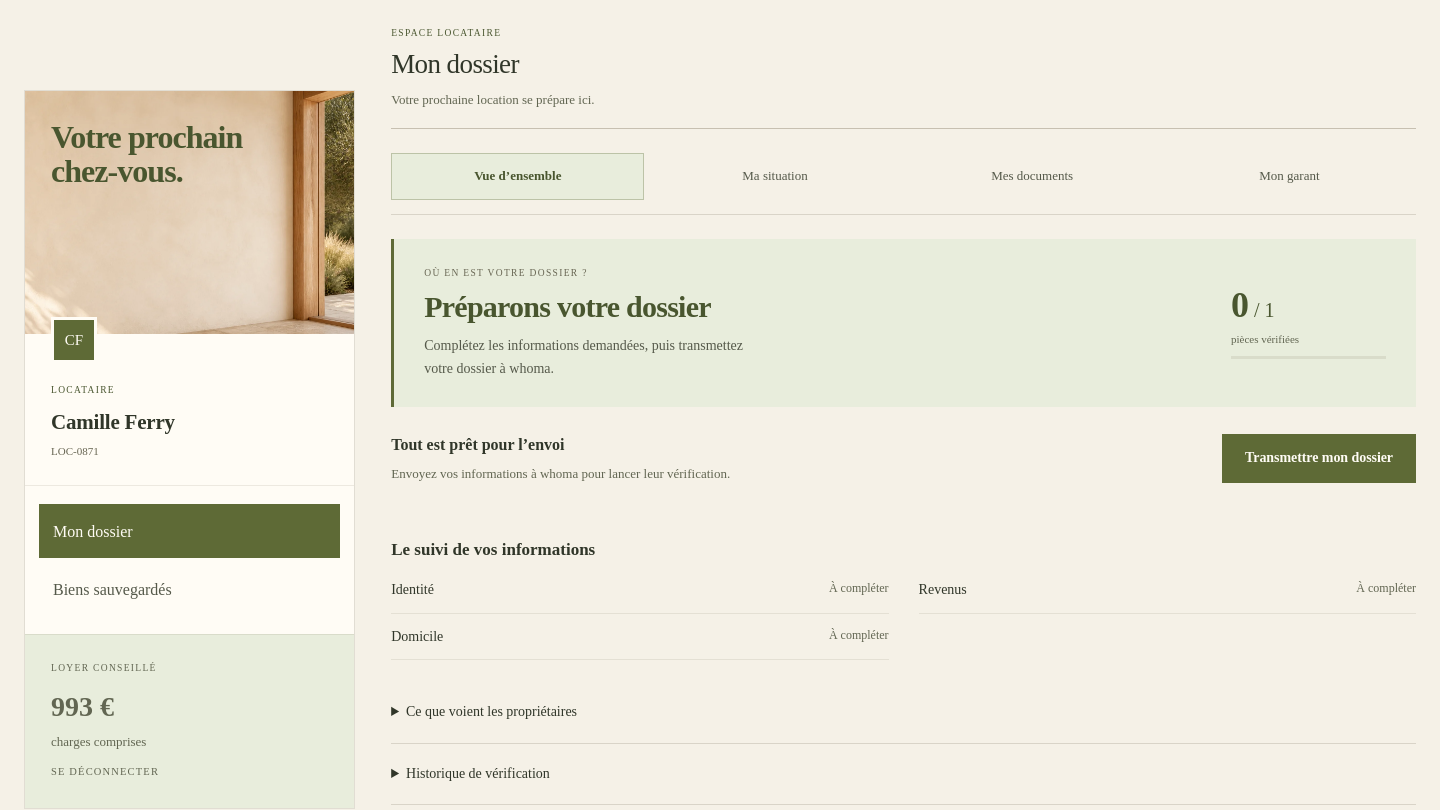
Test case: Dossier locataire par rubriques › laisse le dossier intact et permet de réessayer après un échec
Click the button "Transmettre mon dossier" at (1319, 458), box left=1222, top=434, right=1416, bottom=483
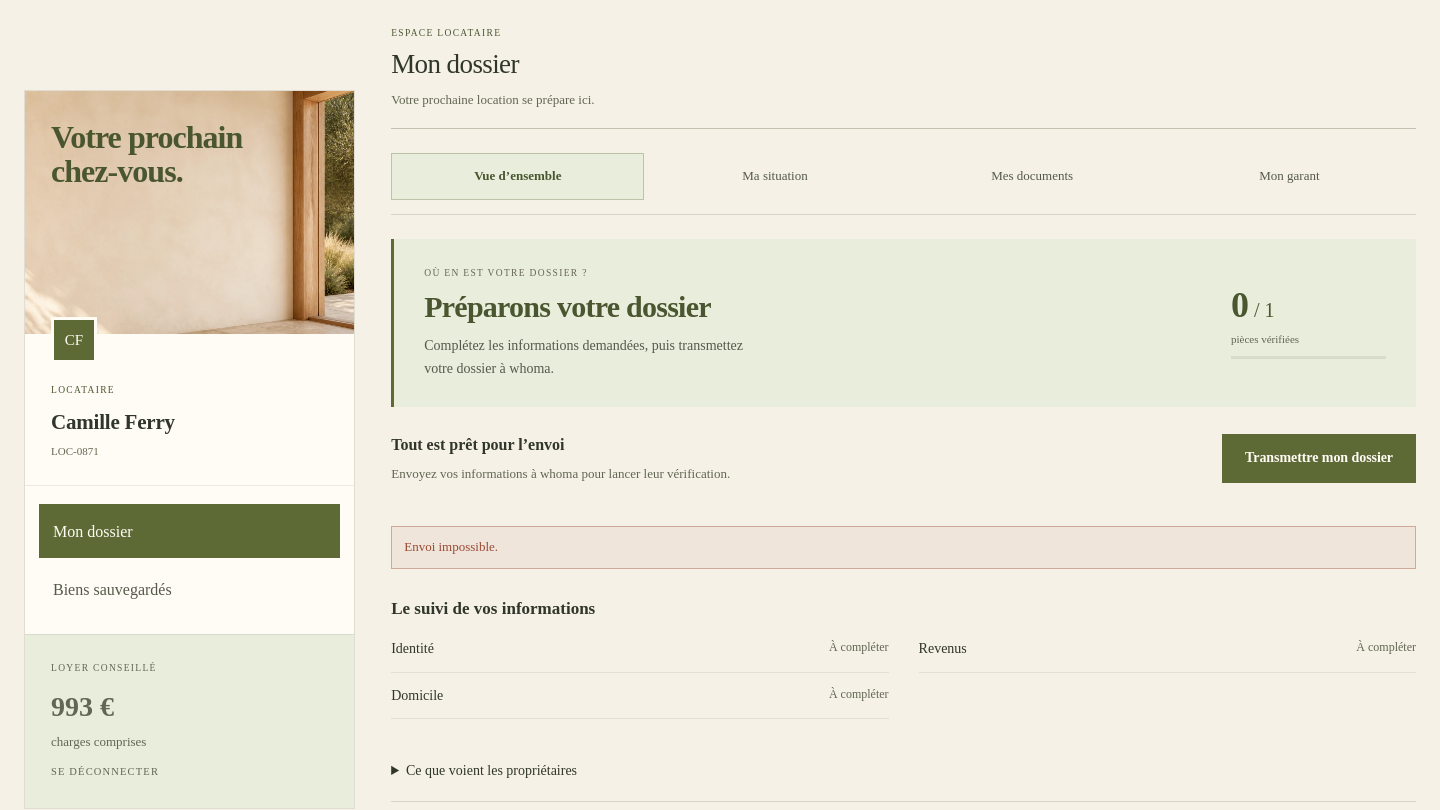
Result: the message reads "Envoi impossible." at left=404, top=539, right=498, bottom=554
